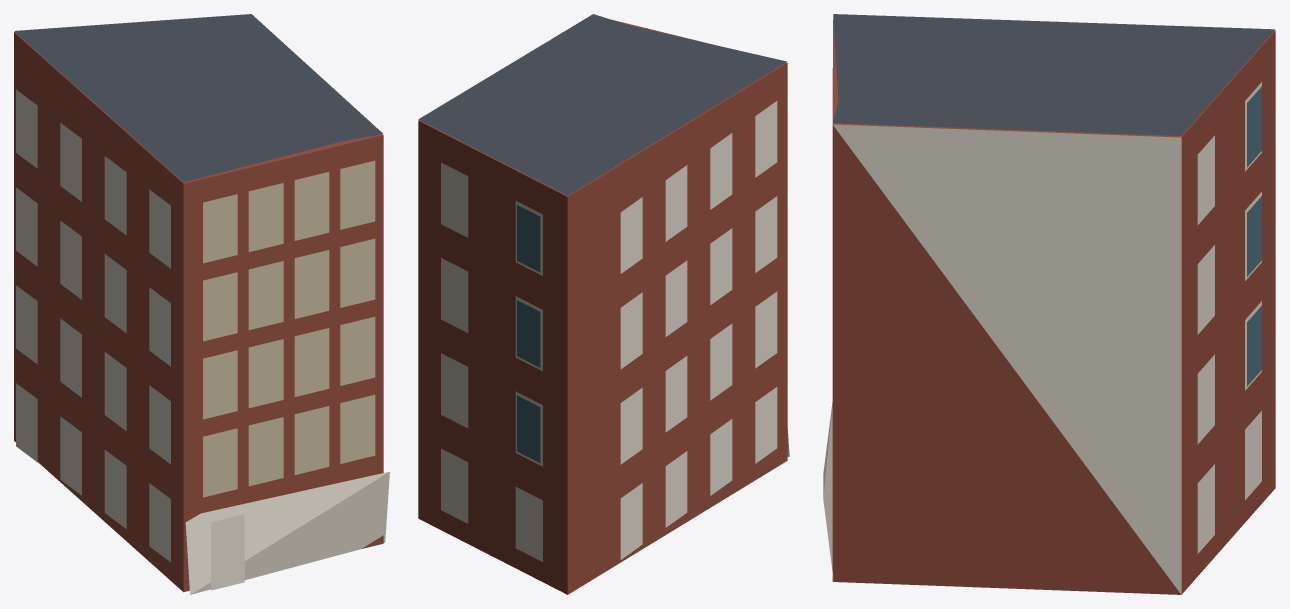
The model's file is amsterdam-tulip-museum.lod2.glb.
The picture shows the model from 3 angles, left to right: view 1: azimuth 30°, elevation 25°; view 2: azimuth 150°, elevation 25°; view 3: azimuth 270°, elevation 25°; orthographic projection. The views are drawn at different scales.
Parts seen in each view (by area): view 1: lod2; view 2: lod2; view 3: lod2.
Part boxes in pixels (x1,y1,x2,y2): lod2: [14, 14, 389, 594]; lod2: [418, 14, 789, 594]; lod2: [823, 14, 1275, 594].
Bounding box in the file's own units: 9.61 × 16.75 × 15.13.
